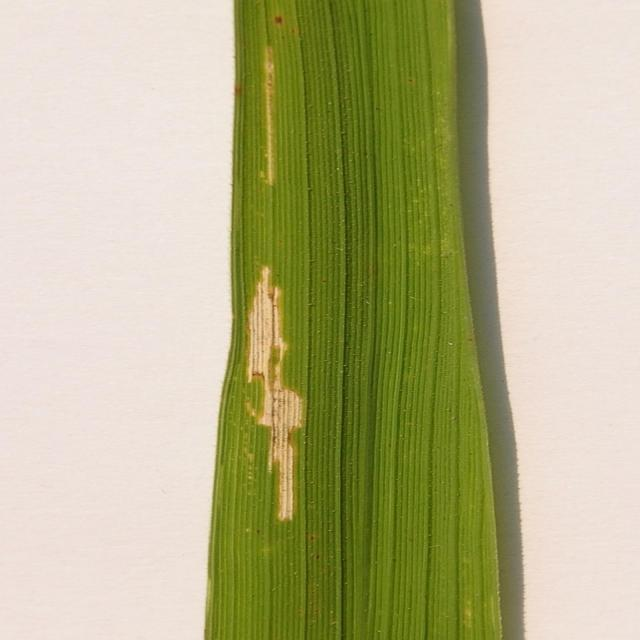leaf blight: (234, 257, 314, 531), (250, 40, 289, 185)
